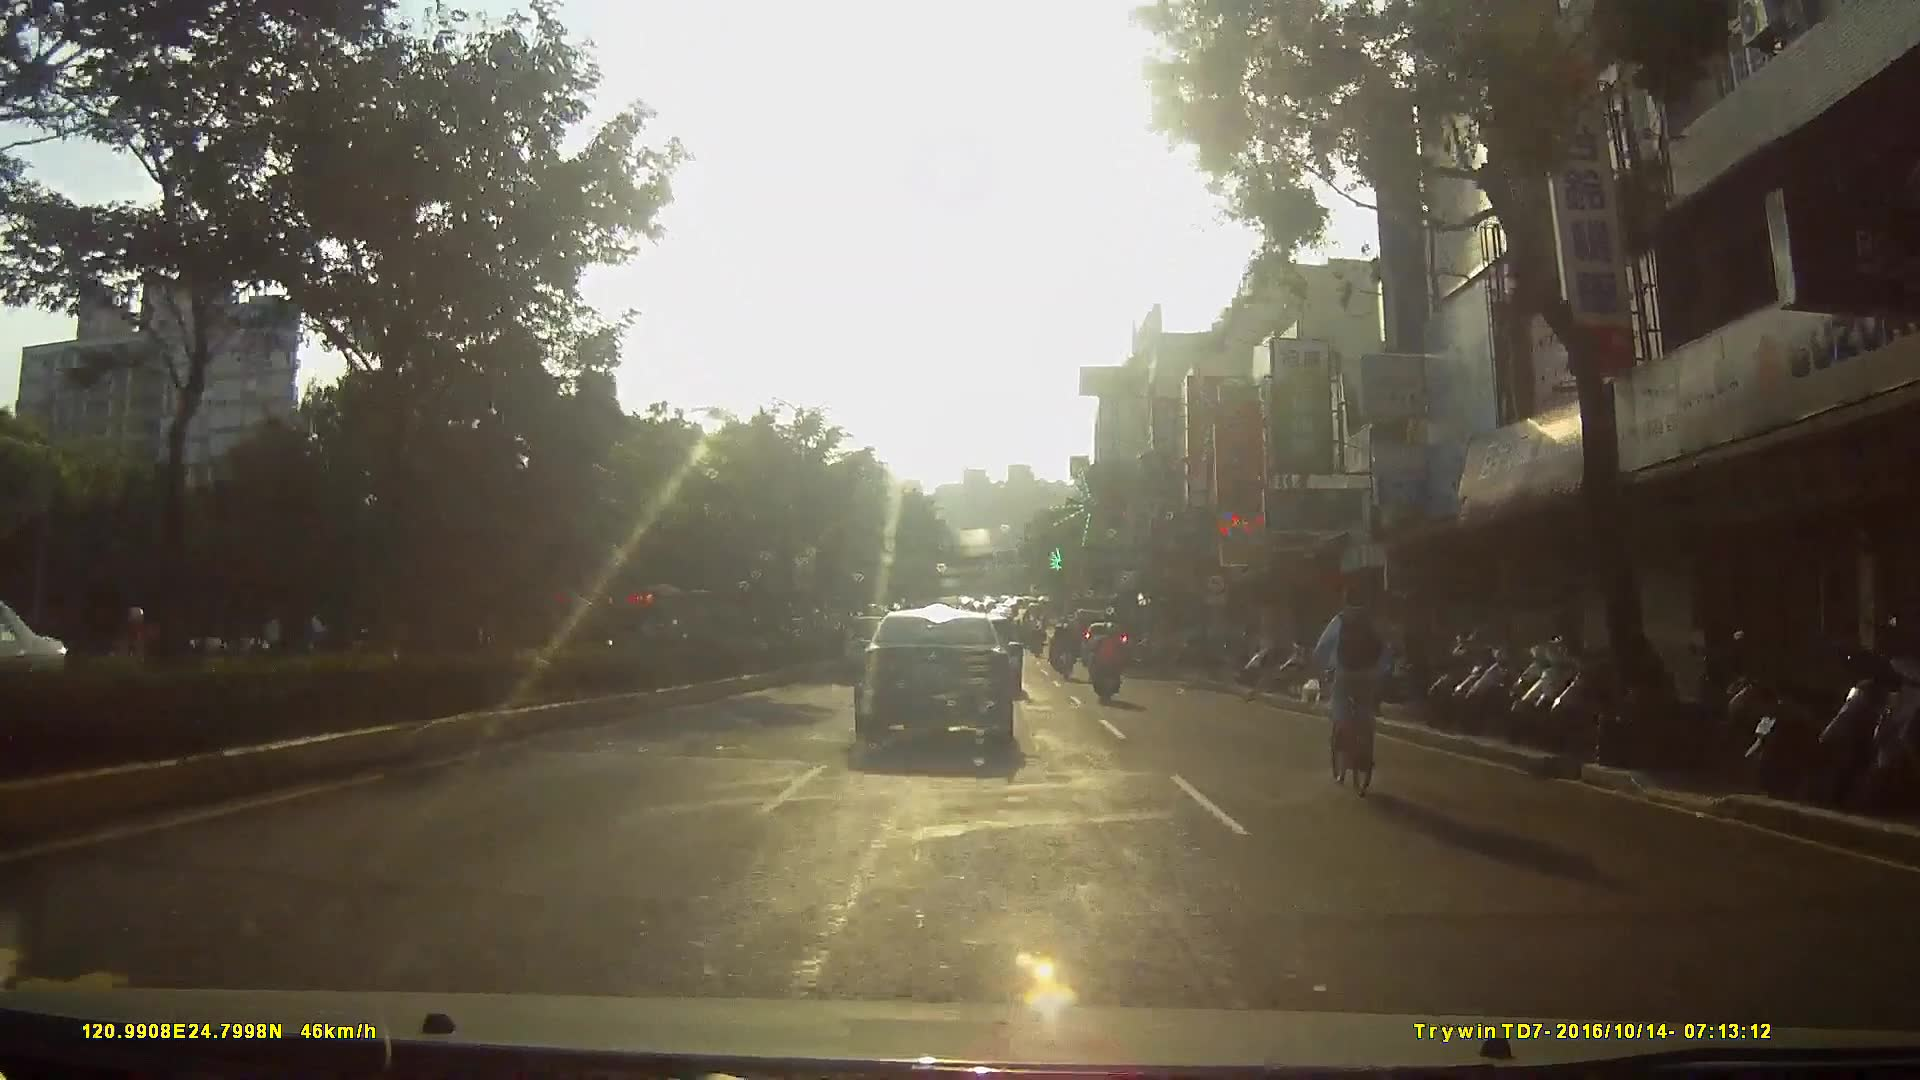rider: (1309, 581, 1394, 794), (1088, 624, 1123, 709), (1049, 620, 1076, 680)
vehicle: (852, 603, 1032, 767)
